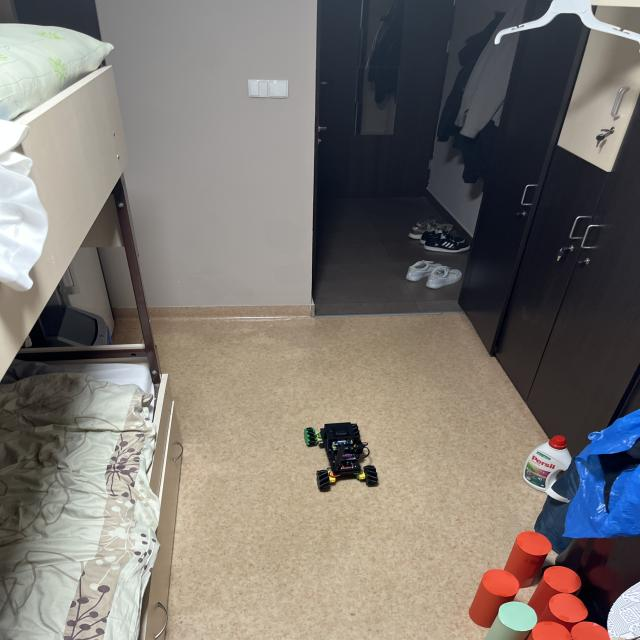robot: (303, 422, 379, 491)
